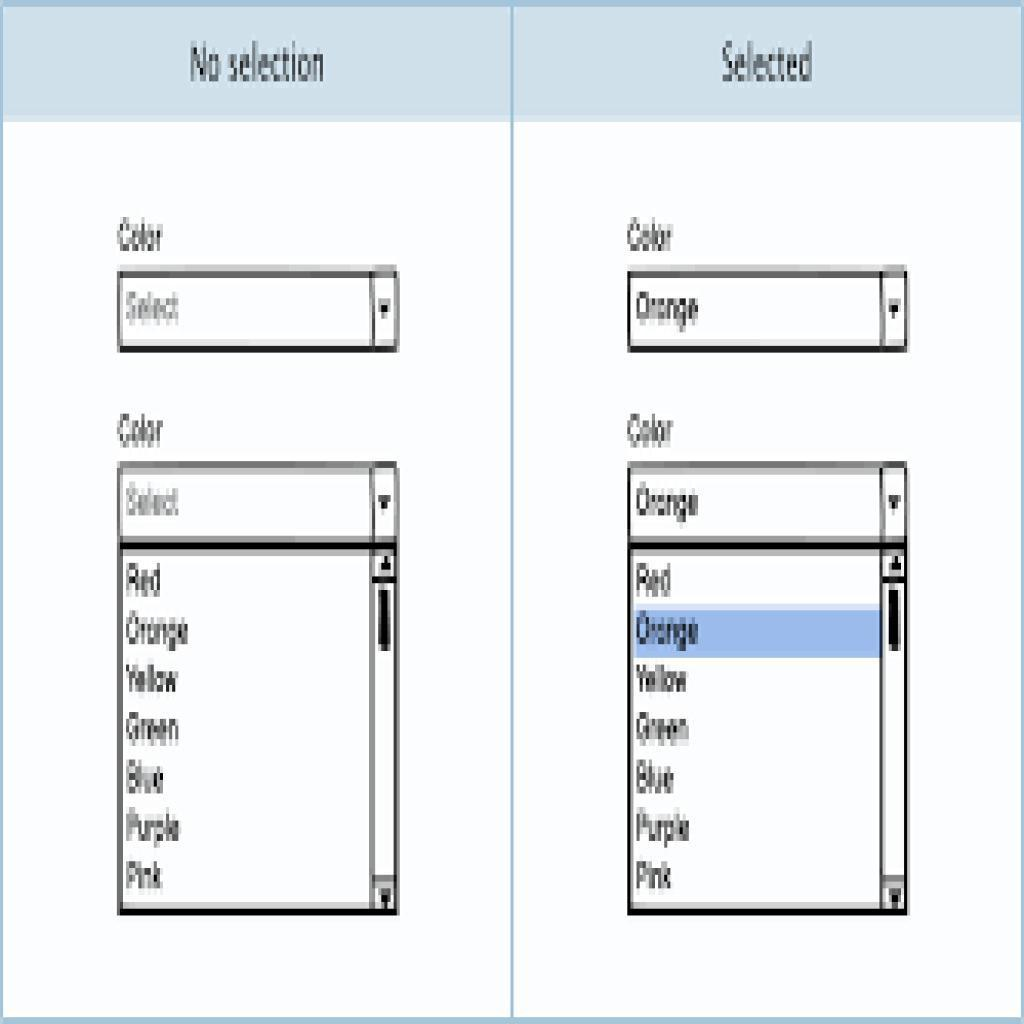dropdown: (117, 461, 401, 547), (626, 464, 908, 548), (625, 273, 909, 354), (119, 271, 401, 350)
